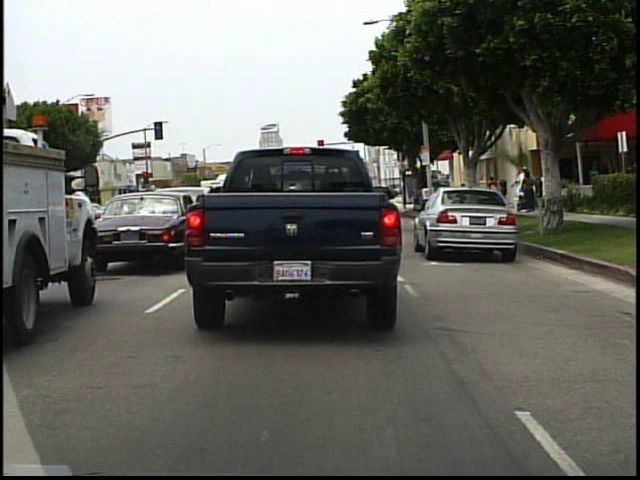person: (486, 173, 504, 211)
